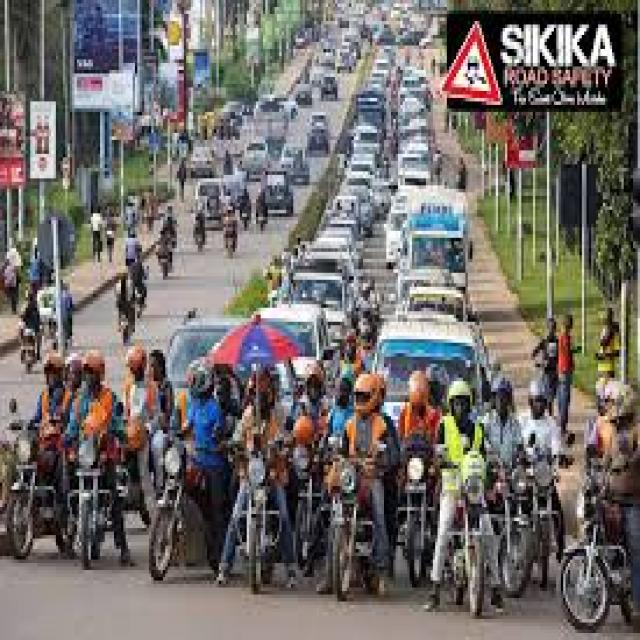bodaboda: (555, 403, 635, 640), (435, 422, 511, 622), (220, 400, 292, 610), (316, 424, 394, 604), (59, 398, 132, 586)
